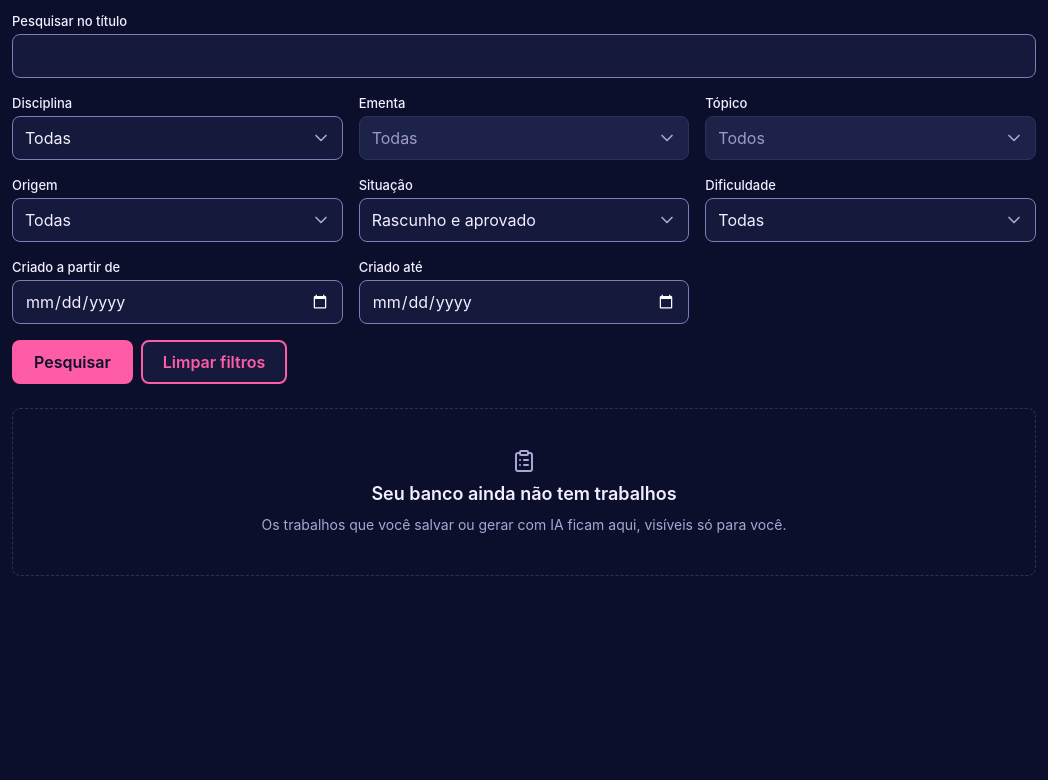
Scenario: 011/US7 WorkBankList — consultar o Banco de Trabalhos › banco vazio mostra o estado vazio; filtros sem resultado dizem isso
Expected: the heading "Seu banco ainda não tem trabalhos" is shown, 371,481 -> 677,507
Type "nada" into the search field labelled "Pesquisar no título".
click(524, 56); type("nada")  # box 12,34 -> 1036,78
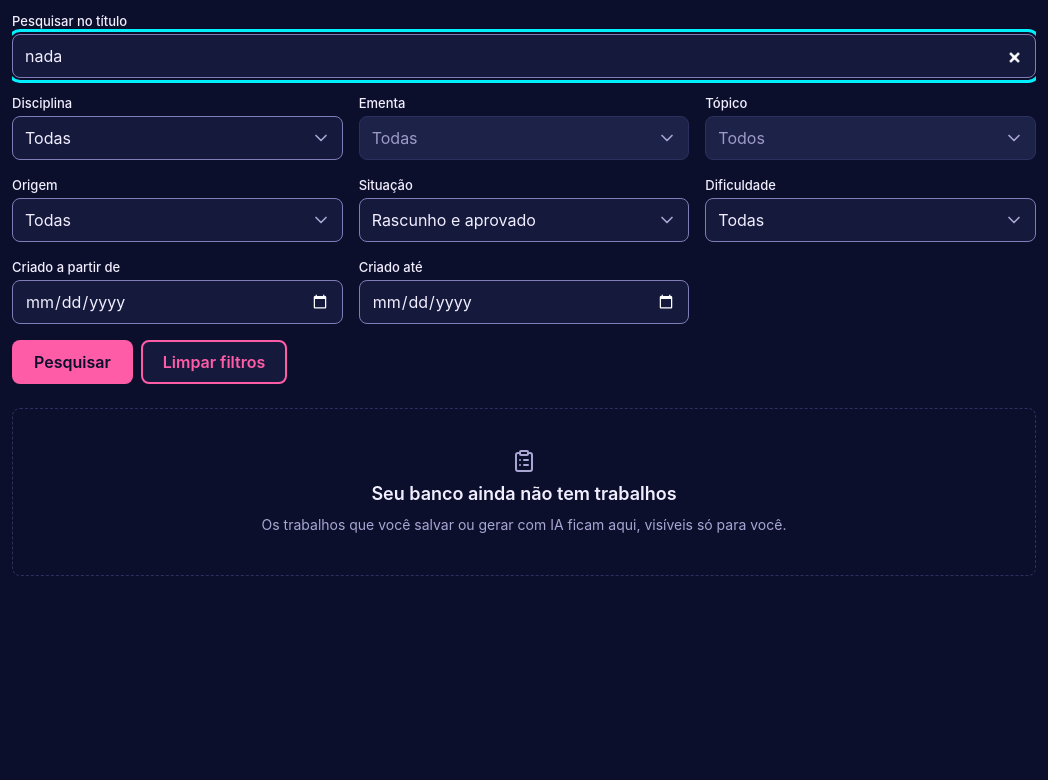
Click the button "Pesquisar".
click(72, 362)  # box 12,340 -> 133,384
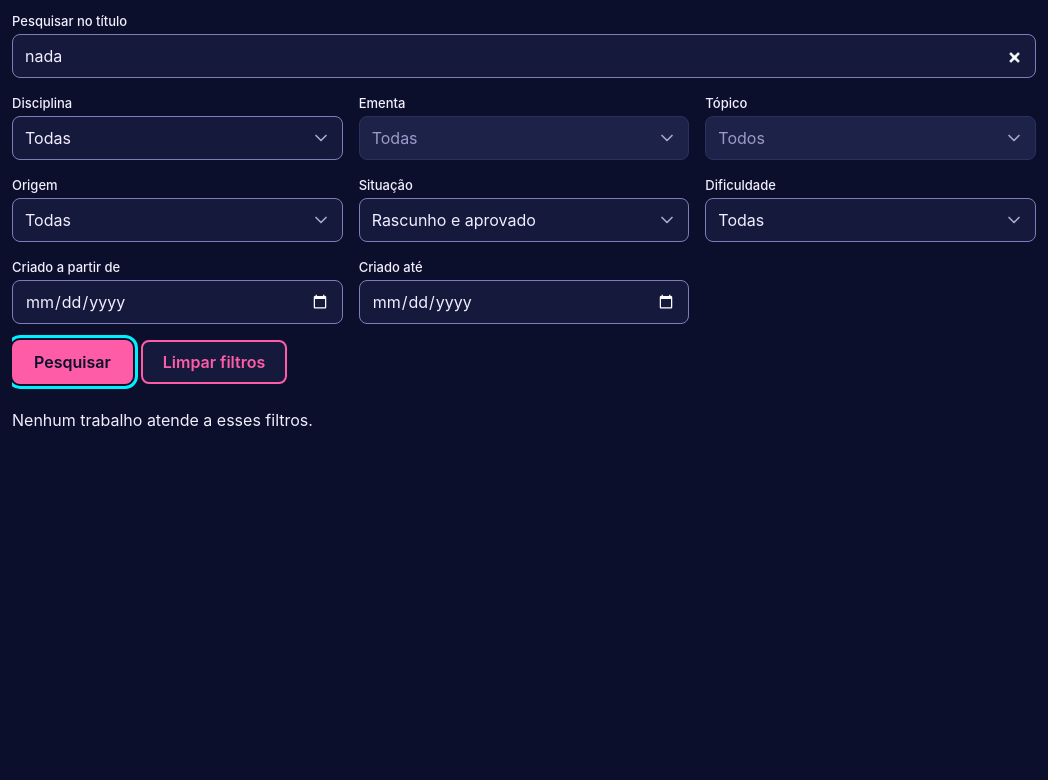
Expected: the text "Nenhum trabalho atende a esses filtros." is shown, 12,410 -> 313,430
